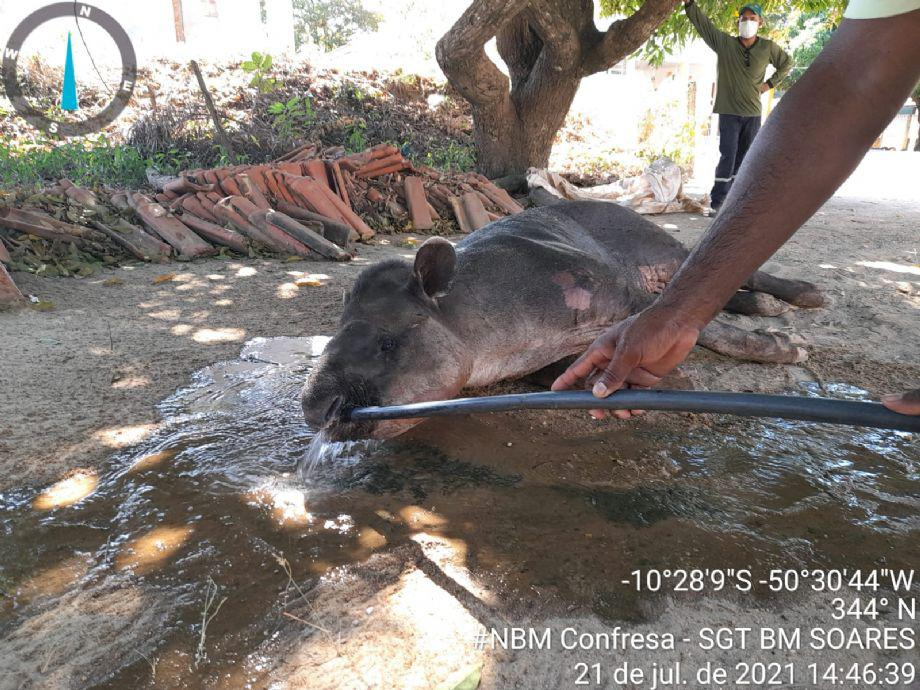Anta: (288, 188, 816, 445)
